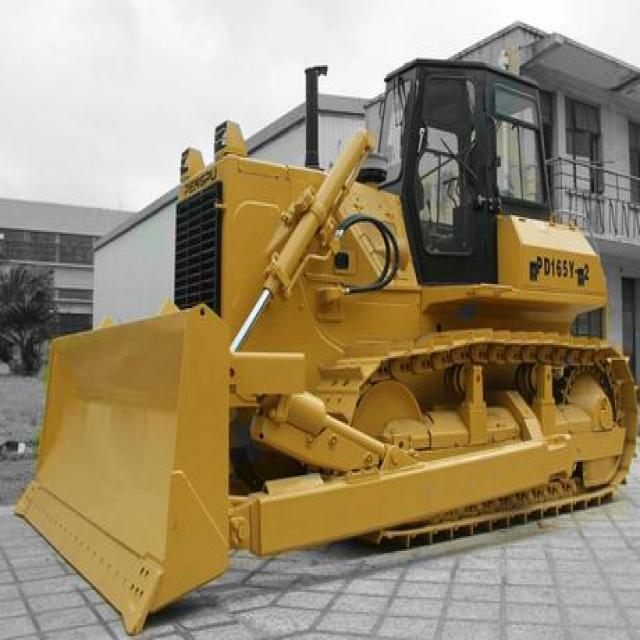Bulldozer: (19, 40, 636, 632)
